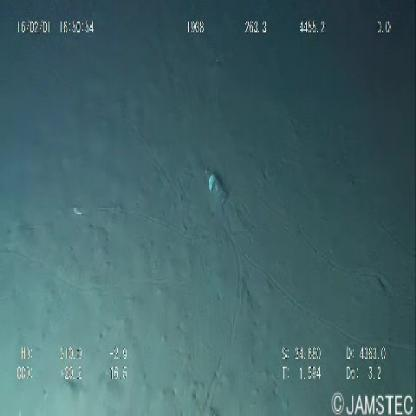Rác: (196, 159, 242, 214)
